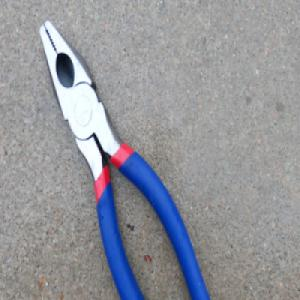Pliers: (39, 19, 211, 300)
